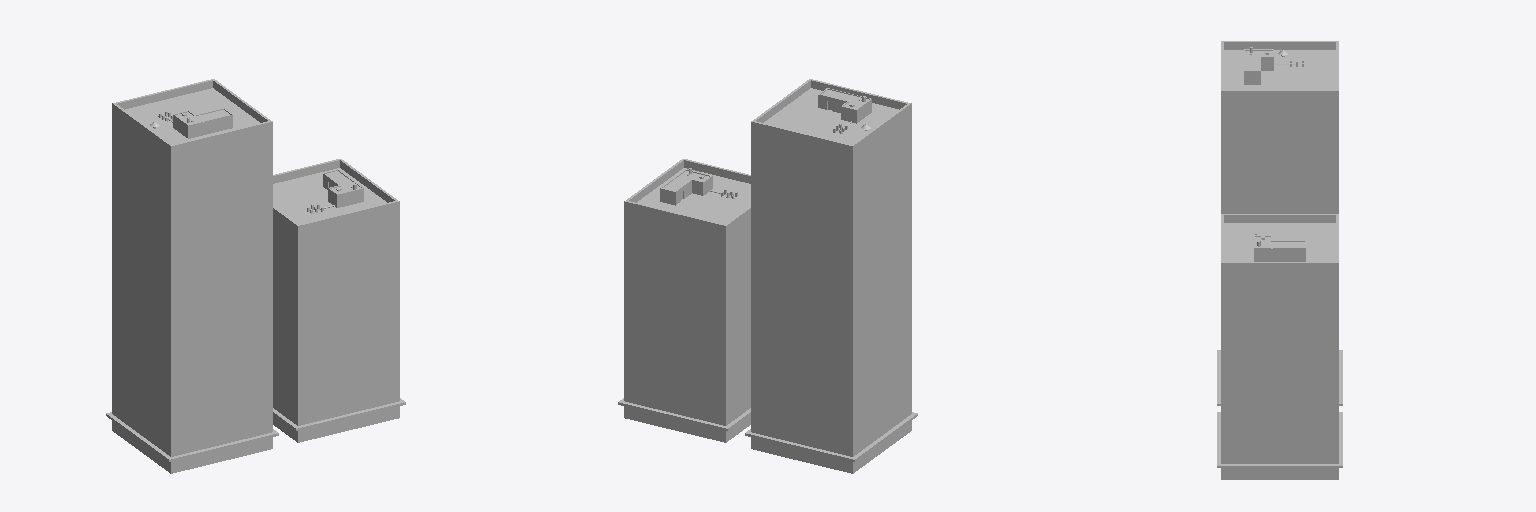
The picture shows the model from 3 angles: view 1: azimuth 30°, elevation 25°; view 2: azimuth 150°, elevation 25°; view 3: azimuth 270°, elevation 25°; orthographic projection.
Visible parts, largest first — view 1: HighRise2.005_Cube.011, Residential2.019_Cube.013; view 2: HighRise2.005_Cube.011, Residential2.019_Cube.013; view 3: Residential2.019_Cube.013, HighRise2.005_Cube.011.
Part boxes in pixels (left/top/right/bottom): HighRise2.005_Cube.011: left=106, top=79, right=278, bottom=473; Residential2.019_Cube.013: left=273, top=159, right=405, bottom=442; HighRise2.005_Cube.011: left=745, top=79, right=917, bottom=473; Residential2.019_Cube.013: left=618, top=159, right=750, bottom=442; Residential2.019_Cube.013: left=1217, top=214, right=1342, bottom=479; HighRise2.005_Cube.011: left=1217, top=41, right=1342, bottom=405.
Size of the model in its own units: 0.9325 by 1.27 by 0.4325.